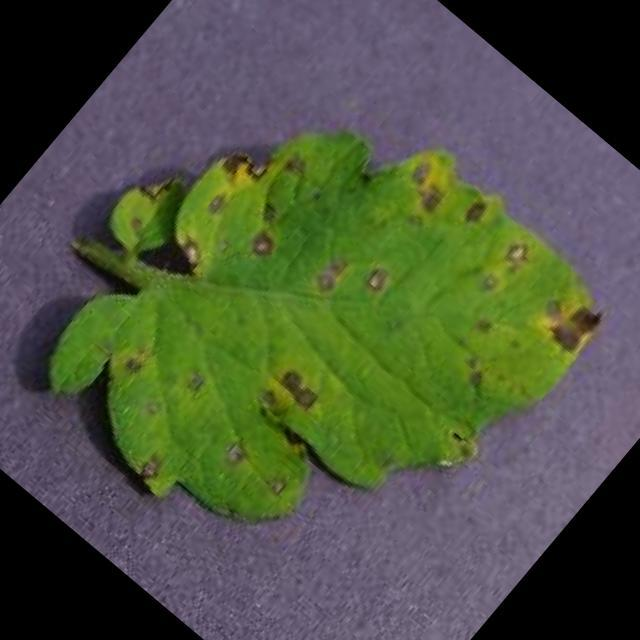Tomato Septoria spot leaf: (0, 2, 629, 640)
